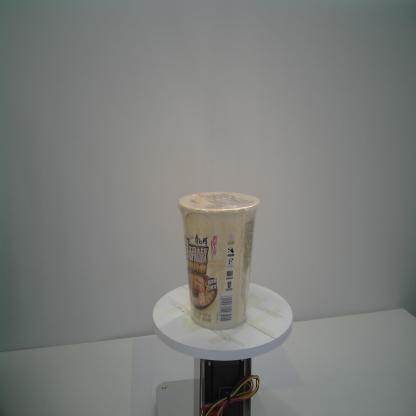Instant Noodles: (178, 189, 261, 333)
